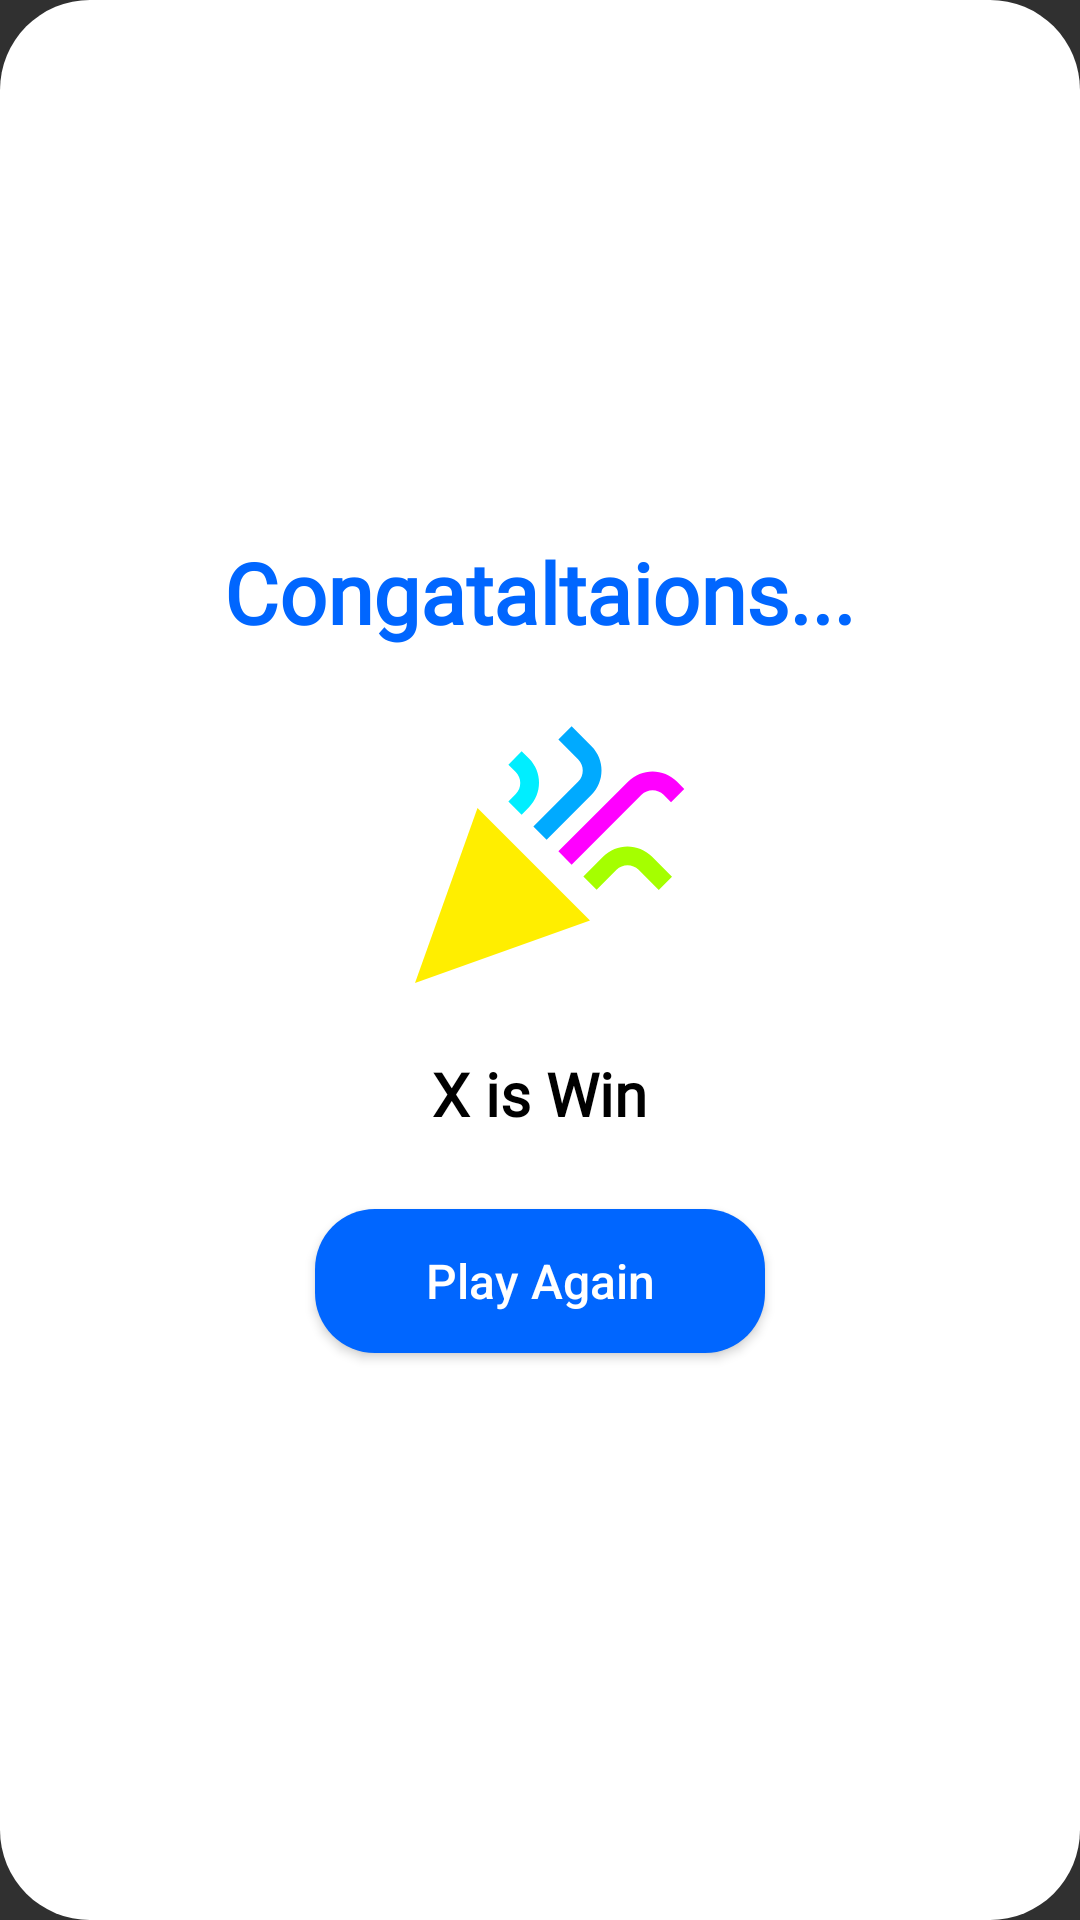

Locate icon controls on the screen. Image size 1080×1920, boxes as (x1, y1, x2, y2).
celebration: (415, 726, 684, 983)
